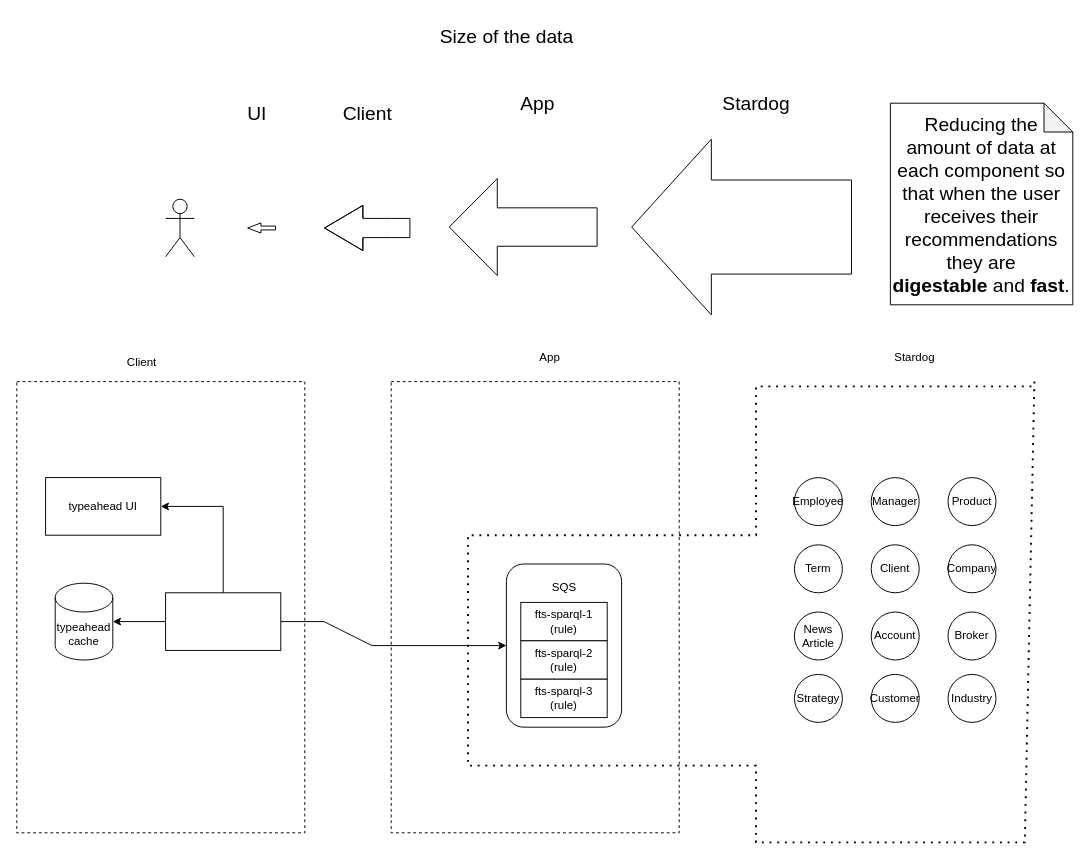
The diagram is 1090 pixels wide and 860 high, and some of its shapes have lost their labels. The centre of each missing label's shape, as x and y in pixels:
"typeahead searcher" goes at [223,621].
"User" goes at [179,227].
